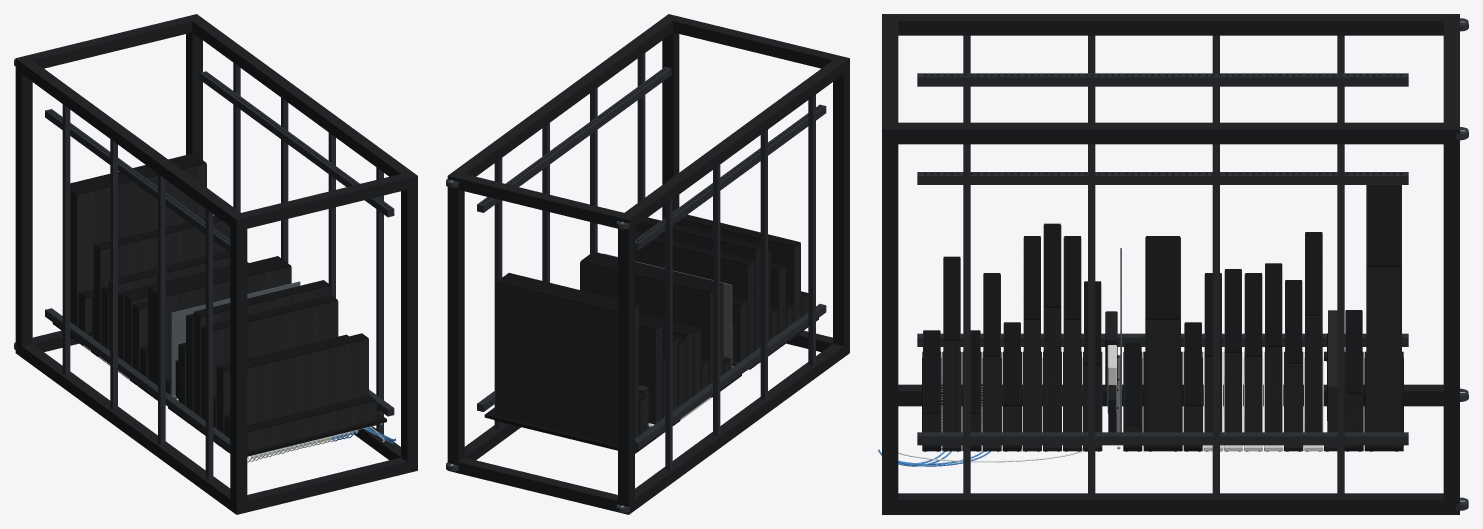
File: mikrotik-isp-24u.glb
The picture shows the model from 3 angles, left to right: view 1: azimuth 30°, elevation 25°; view 2: azimuth 150°, elevation 25°; view 3: azimuth 270°, elevation 25°; orthographic projection. The views are drawn at different scales.
Parts seen in each view (by area): view 1: RACK_FRAME__nexus_black_dark, SIDE_BRACES__nexus_black, MOUNTING_RAILS__nexus_black, CRS354_48G__steel_textured, MIKROTIK_UPS__steel_textured, CRS518_16XS__steel_textured, CRS328_24P__steel_textured, FIBRE_ODF__steel_textured, PATCH_PANEL_A__steel_textured, CCR2216_12XS__steel_textured, PATCH_PANEL_A__mt_black_dark, FIBRE_ODF__mt_black_dark (+15 smaller); view 2: RACK_FRAME__nexus_black_dark, MIKROTIK_UPS__steel_textured, SIDE_BRACES__nexus_black, MOUNTING_RAILS__nexus_black, FIBRE_ODF__steel_textured, CCR2004_12S__steel_textured, MIKROTIK_UPS__mt_black_dark, CRS328_24P__steel_textured, CRS354_48G__steel_textured, CCR2216_12XS__steel_textured, FIBRE_ODF__mt_black_dark, DESKTOP_SHELF__mt_shelf (+10 smaller); view 3: RACK_FRAME__nexus_black_dark, MOUNTING_RAILS__nexus_black, SIDE_BRACES__nexus_black, MIKROTIK_UPS__steel_textured, FIBRE_ODF__steel_textured, MIKROTIK_UPS__mt_black_dark, FIBRE_ODF__mt_black_dark, CCR2216_12XS__steel_textured, CCR2004_12S__steel_textured, CRS328_24P__steel_textured, CRS518_16XS__steel_textured, MIKROTIK_PDU__mt_black_dark (+29 smaller).
Part boxes in pixels (x1,y1,x2,y2): RACK_FRAME__nexus_black_dark: (15,14,417,514); SIDE_BRACES__nexus_black: (62,63,383,479); MOUNTING_RAILS__nexus_black: (45,71,394,451); CRS354_48G__steel_textured: (247,339,368,424); MIKROTIK_UPS__steel_textured: (70,164,206,326); CRS518_16XS__steel_textured: (201,301,338,420); CRS328_24P__steel_textured: (93,221,230,343); FIBRE_ODF__steel_textured: (148,266,291,385); PATCH_PANEL_A__steel_textured: (247,401,376,451); CCR2216_12XS__steel_textured: (193,286,330,417); PATCH_PANEL_A__mt_black_dark: (229,395,386,456); FIBRE_ODF__mt_black_dark: (137,256,290,396); RACK_FRAME__nexus_black_dark: (447,14,849,514); MIKROTIK_UPS__steel_textured: (495,283,638,444); SIDE_BRACES__nexus_black: (494,53,815,470); MOUNTING_RAILS__nexus_black: (477,67,826,449); FIBRE_ODF__steel_textured: (580,262,723,384); CCR2004_12S__steel_textured: (635,238,754,356); MIKROTIK_UPS__mt_black_dark: (484,273,649,453); CRS328_24P__steel_textured: (639,326,662,424); CRS354_48G__steel_textured: (664,216,800,322); CCR2216_12XS__steel_textured: (635,223,760,350); FIBRE_ODF__mt_black_dark: (580,251,734,391); DESKTOP_SHELF__mt_shelf: (603,253,733,367); RACK_FRAME__nexus_black_dark: (882,14,1459,514); MOUNTING_RAILS__nexus_black: (917,73,1408,445); SIDE_BRACES__nexus_black: (963,35,1344,498); MIKROTIK_UPS__steel_textured: (1366,185,1401,432); FIBRE_ODF__steel_textured: (1145,237,1180,432); MIKROTIK_UPS__mt_black_dark: (1364,185,1403,451); FIBRE_ODF__mt_black_dark: (1143,236,1182,451); CCR2216_12XS__steel_textured: (1043,225,1061,432); CCR2004_12S__steel_textured: (1063,237,1081,432); CRS328_24P__steel_textured: (1305,233,1322,432); CRS518_16XS__steel_textured: (1023,237,1040,432); MIKROTIK_PDU__mt_black_dark: (1344,310,1363,451).
Bounding box in the file's own units: 0.609 × 0.9401 × 1.31.
28 materials, 4 textured.
